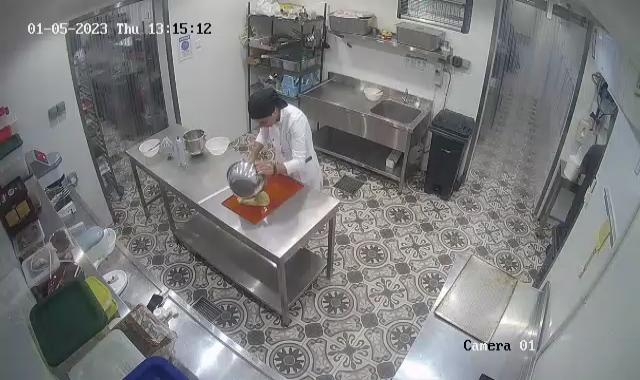no_hairnet: (246, 88, 281, 121)
